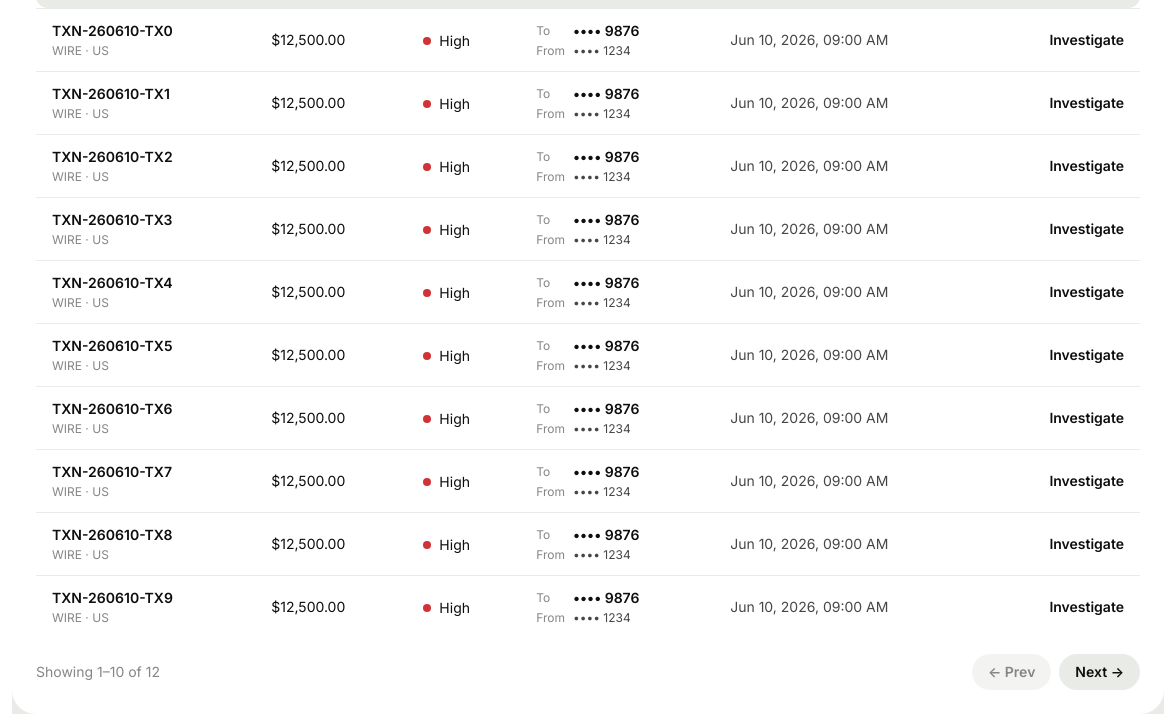
Transactions › pages forward and back with server-side keyset cursors
The width and height of the screenshot is (1164, 714).
(page scrolled)
Expected: the text "TXN-260610-TX0" is shown, [52,22,173,39]
Expected: the text "TXN-260610-TX9" is shown, [52,589,173,606]
Click the button "Next →" at (1100,672), box [1059,654,1140,690]
(page scrolled)
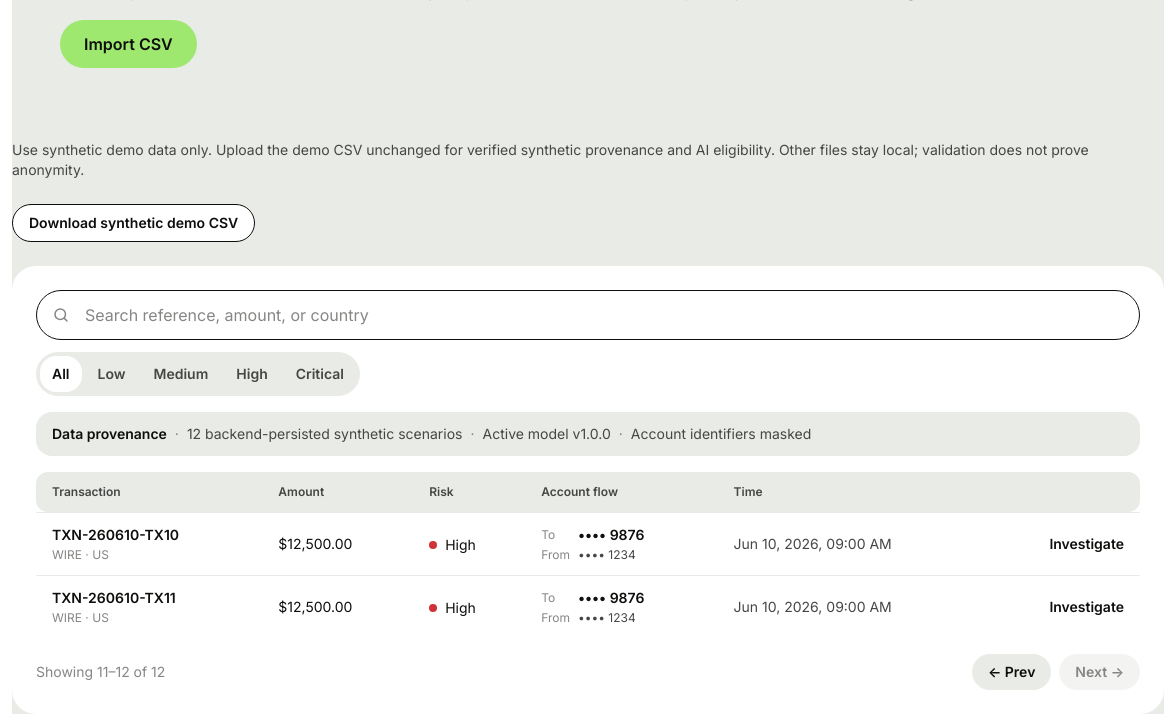
Expected: the text "TXN-260610-TX10" is shown, [52,526,179,543]
Expected: the text "Showing 11–12 of 12" is shown, [36,662,165,682]
Expected: the button "Next →" is disabled, [1059,654,1140,690]
Back to page 1 (cursor popped).
Click the button "← Prev" at (1012,672), box [972,654,1051,690]
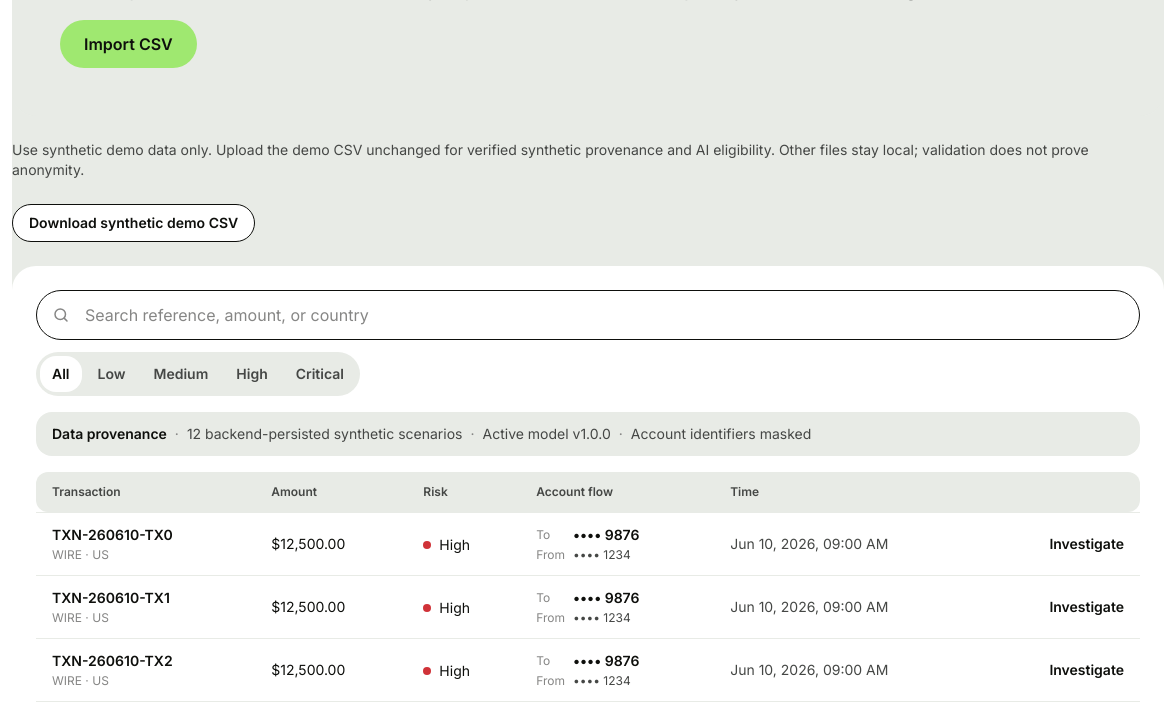
Expected: the text "TXN-260610-TX0" is shown, [52,526,173,543]
